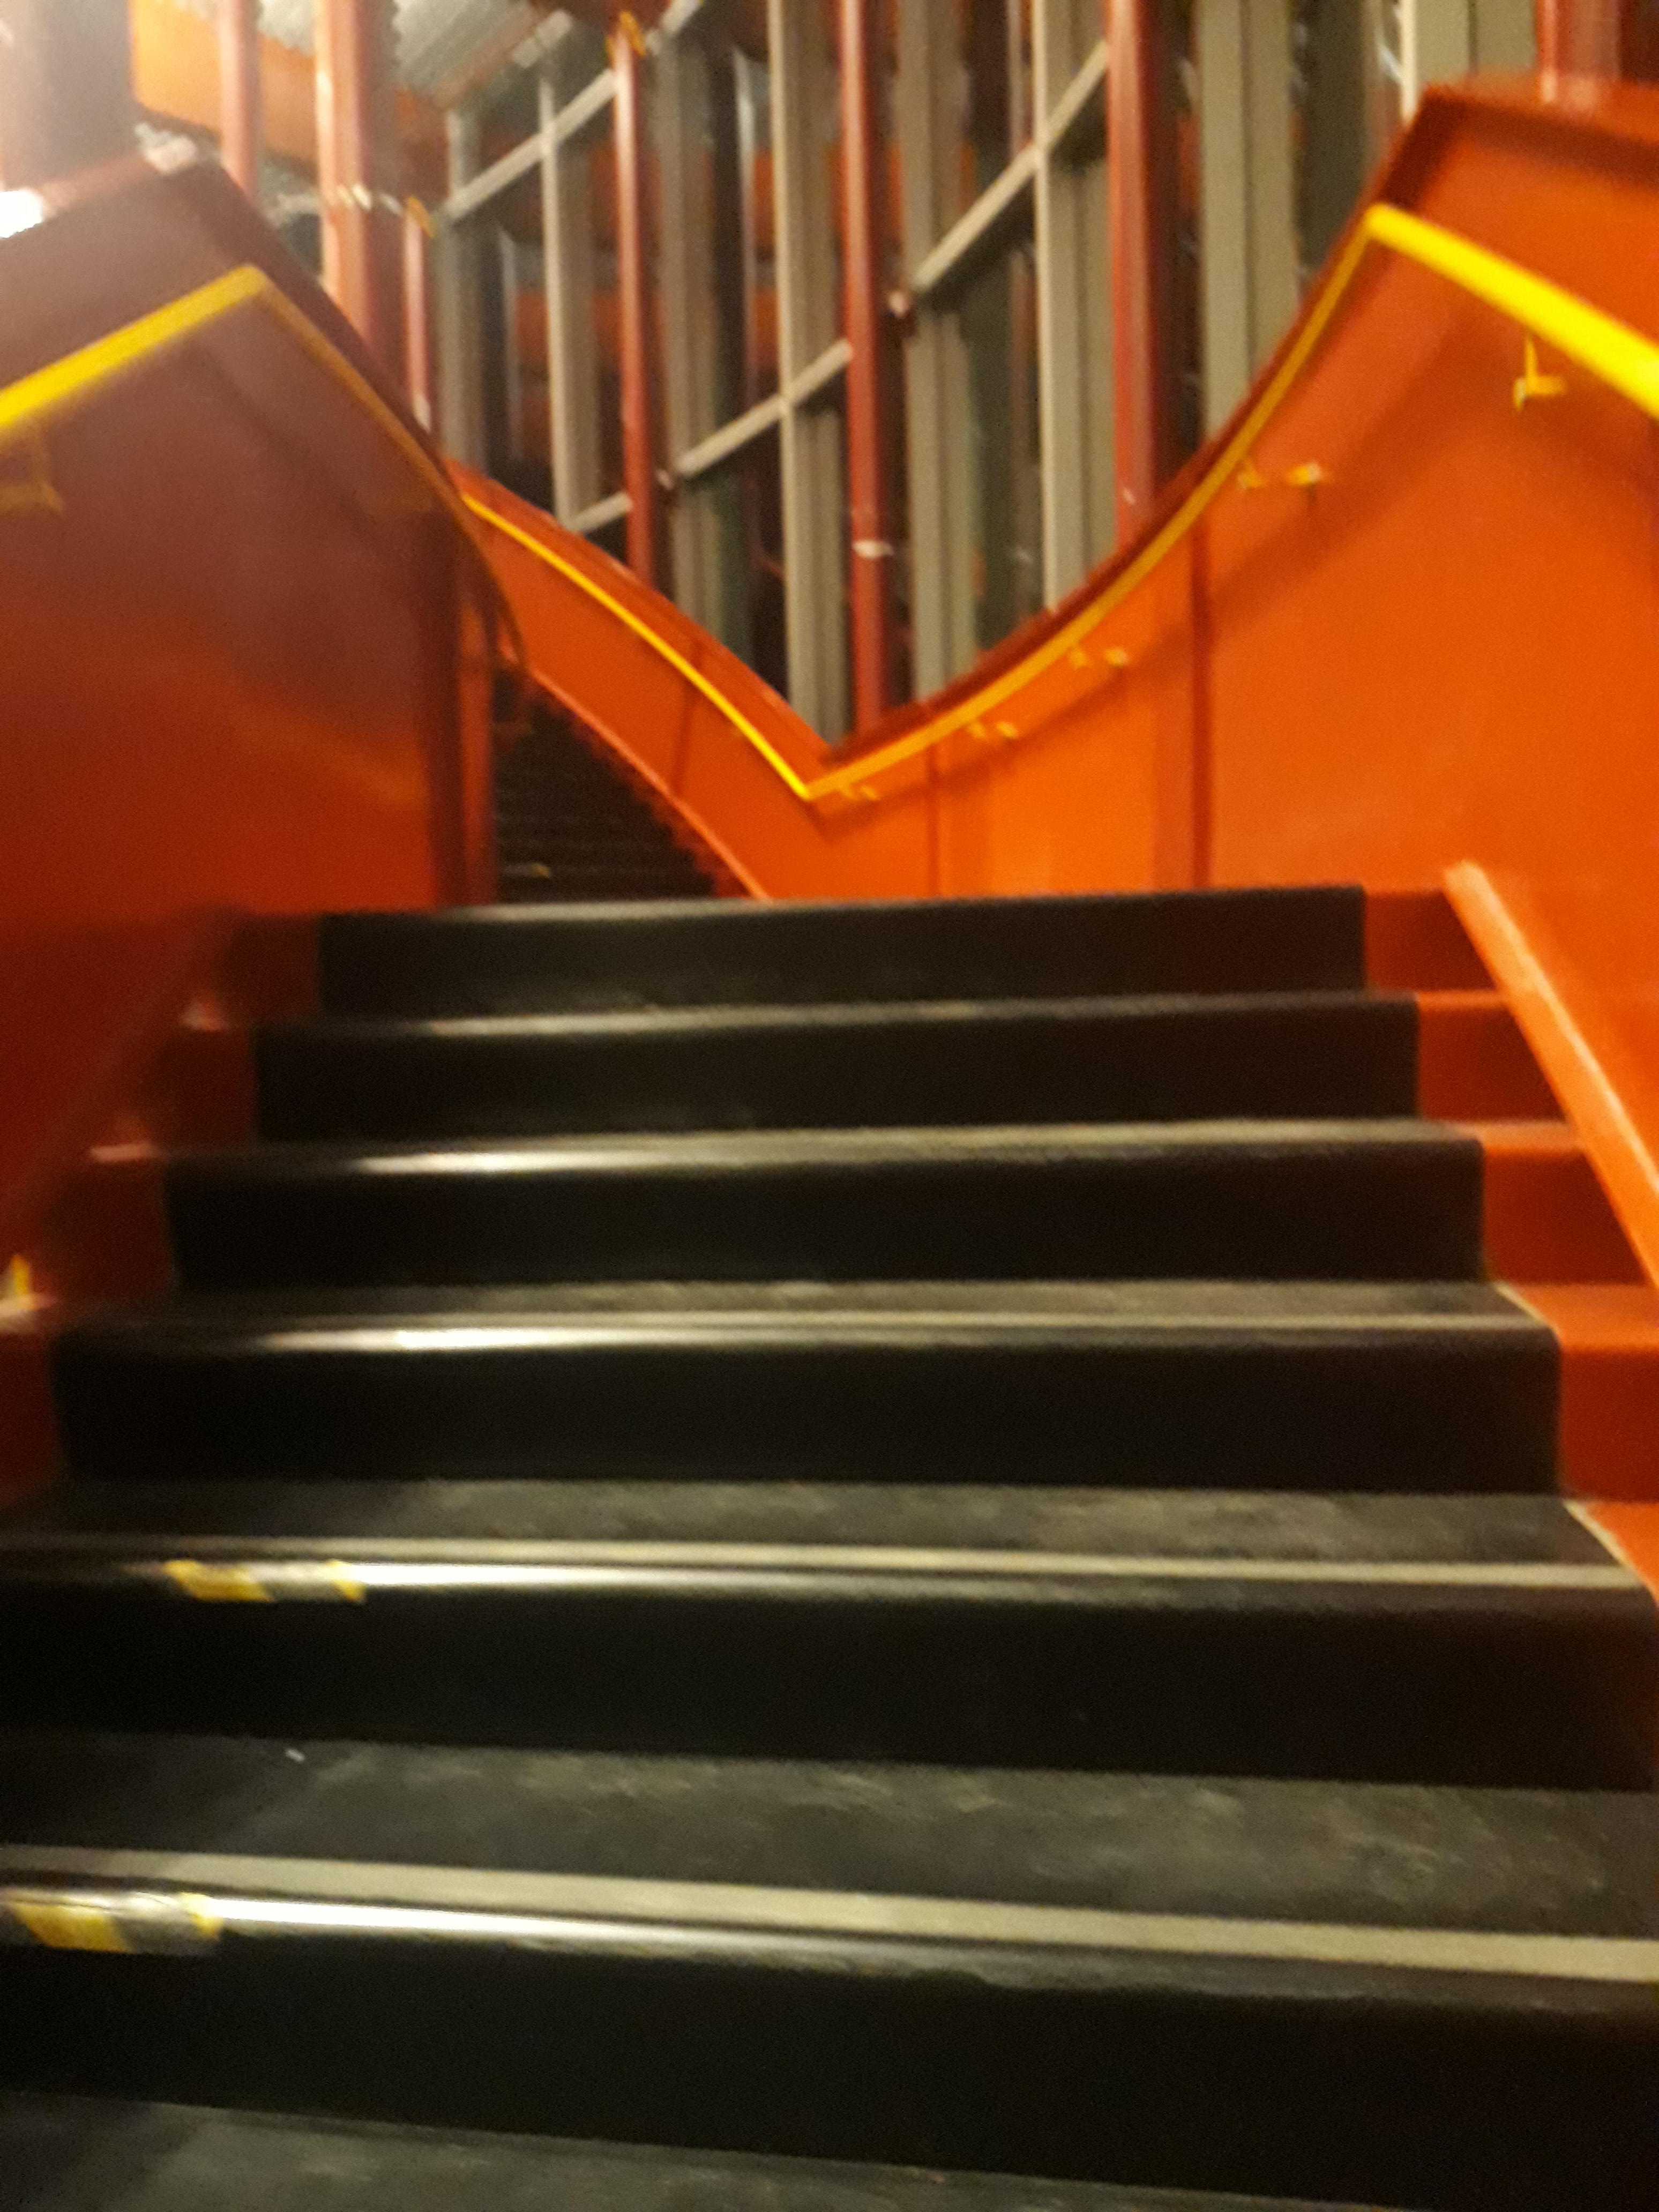stair: (0, 883, 1659, 2209)
